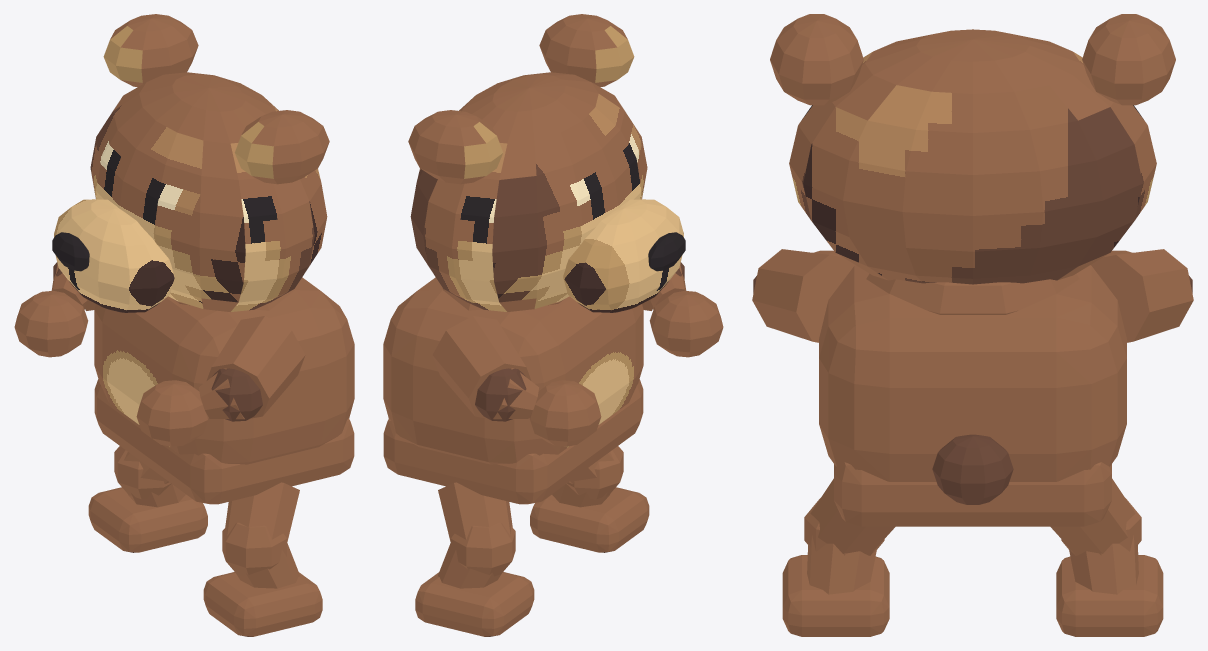
The model's file is rider.glb.
The picture shows the model from 3 angles, left to right: view 1: azimuth 30°, elevation 25°; view 2: azimuth 150°, elevation 25°; view 3: azimuth 270°, elevation 25°; orthographic projection. The views are drawn at different scales.
Parts seen in each view (by area): view 1: Bear_static_seated; view 2: Bear_static_seated; view 3: Bear_static_seated.
Boxes of the visible parts, bbox=[...] form: Bear_static_seated: bbox=[14, 14, 354, 636]; Bear_static_seated: bbox=[383, 14, 723, 636]; Bear_static_seated: bbox=[752, 14, 1193, 636].
Size of the model in its own units: 15.81 by 27.13 by 17.96.
Materials: 1 (1 with a texture image).
